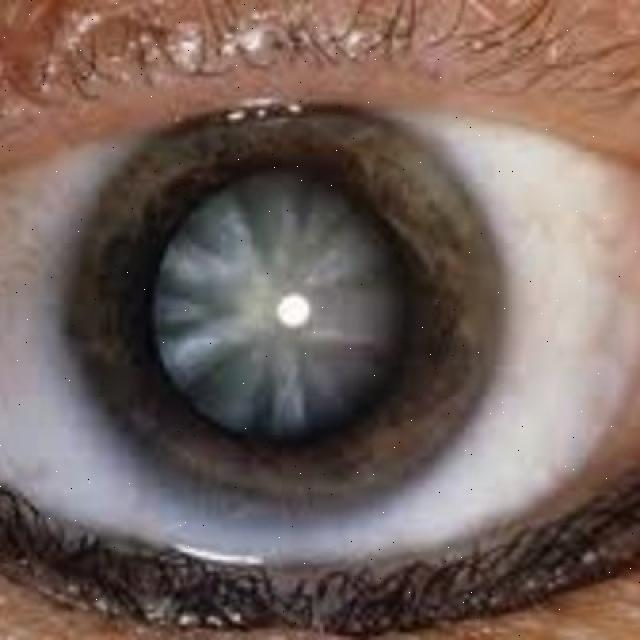Cataract: (61, 89, 512, 522)
